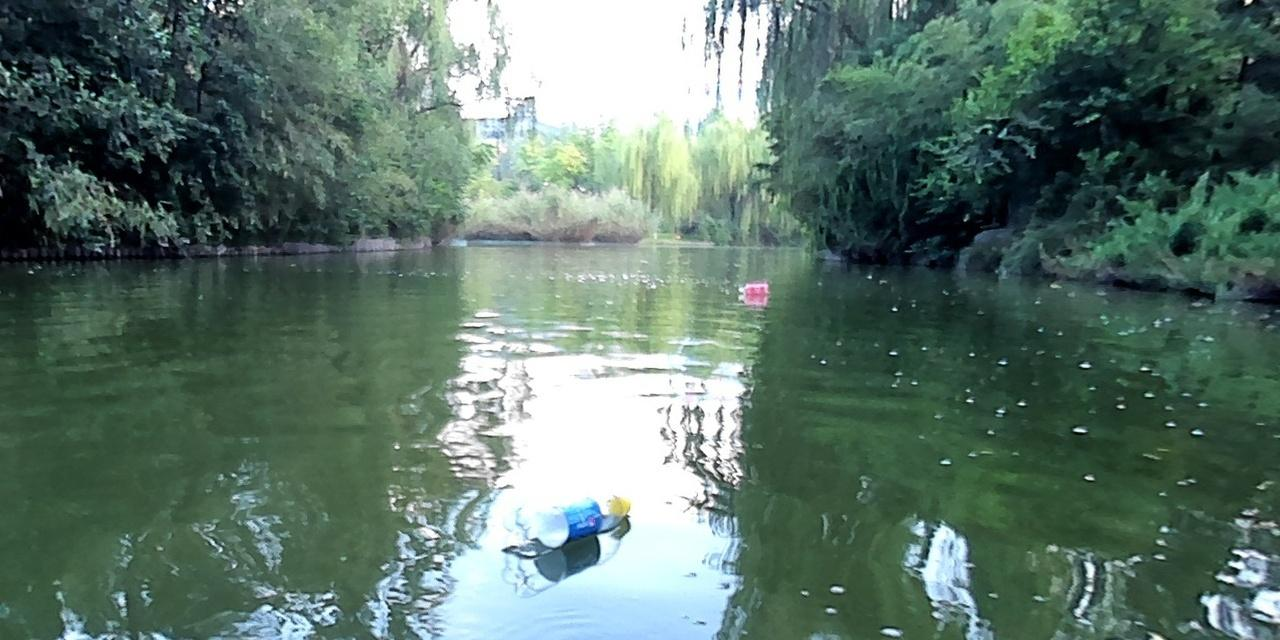bottle: (502, 494, 631, 558), (739, 281, 766, 295)
